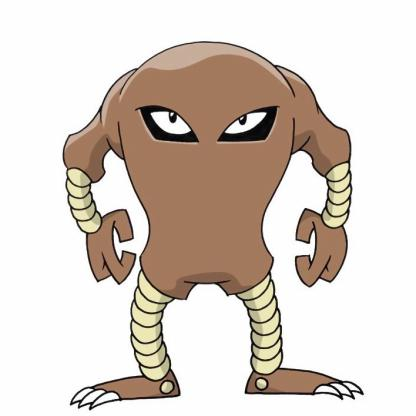Hitmonlee: (65, 32, 371, 405)
